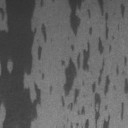red iron: (60, 0, 115, 128), (0, 0, 48, 128), (116, 56, 128, 75), (120, 3, 126, 18), (120, 102, 124, 120), (124, 78, 128, 94), (42, 72, 45, 80), (50, 84, 52, 93)
